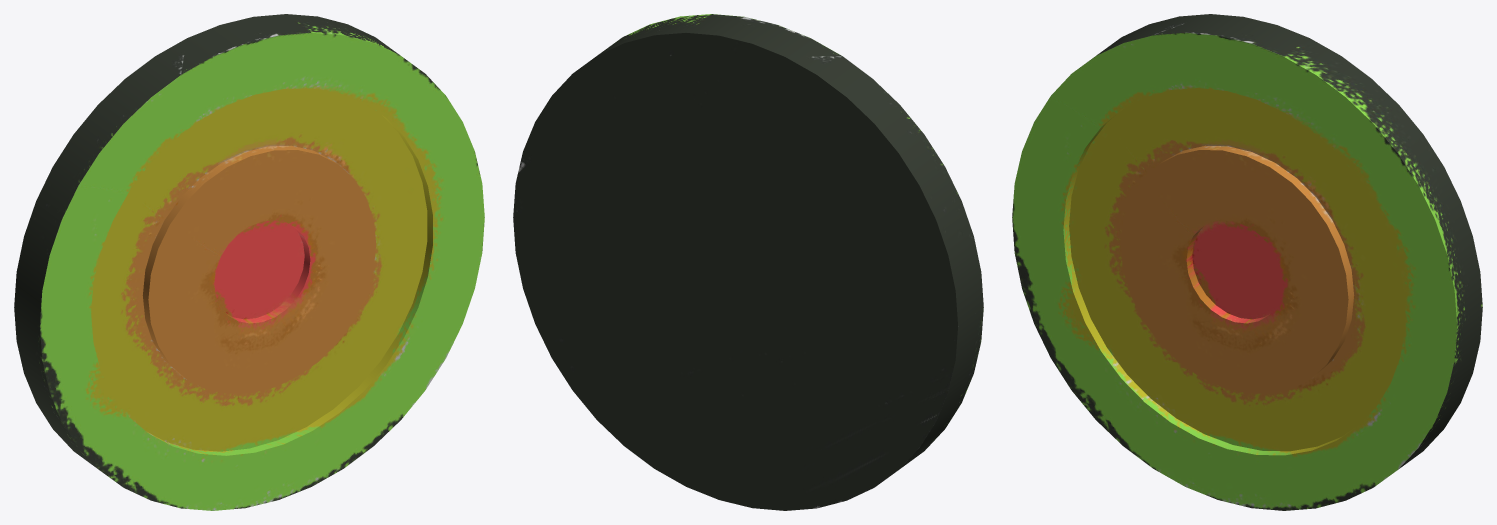
File: Target 01.dae
3 renders of one model, left to right at view 1: azimuth 30°, elevation 25°; view 2: azimuth 150°, elevation 25°; view 3: azimuth 330°, elevation 25°, orthographic.
Visible parts, largest first — view 1: Body1; view 2: Body1; view 3: Body1.
Boxes of the visible parts, left/top/right/bottom form: Body1: left=14, top=14, right=484, bottom=510; Body1: left=513, top=14, right=983, bottom=510; Body1: left=1012, top=14, right=1482, bottom=510.
Bounding box in the file's own units: 25.07 × 25 × 2.51.
Materials: 1 (1 with a texture image).
